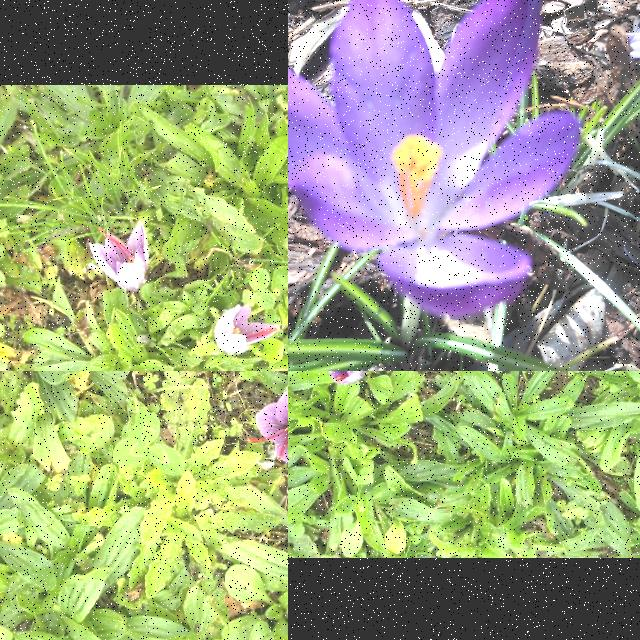flower: (89, 226, 147, 298), (246, 389, 288, 485), (216, 302, 280, 353), (330, 371, 370, 385)
